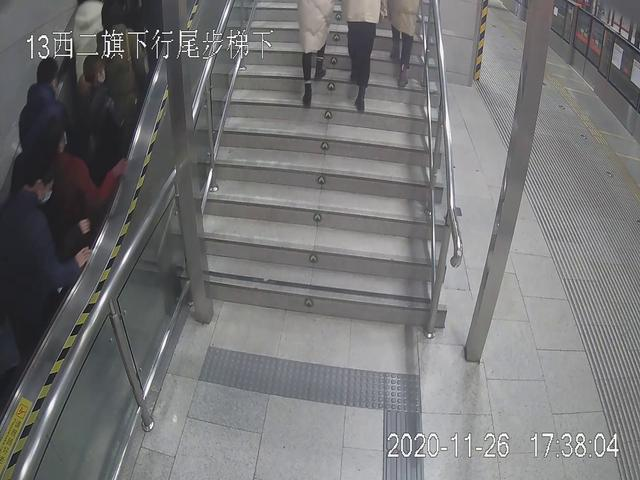person: (6, 149, 101, 364), (23, 118, 122, 265), (288, 1, 341, 106), (339, 1, 387, 115), (388, 1, 417, 102)
